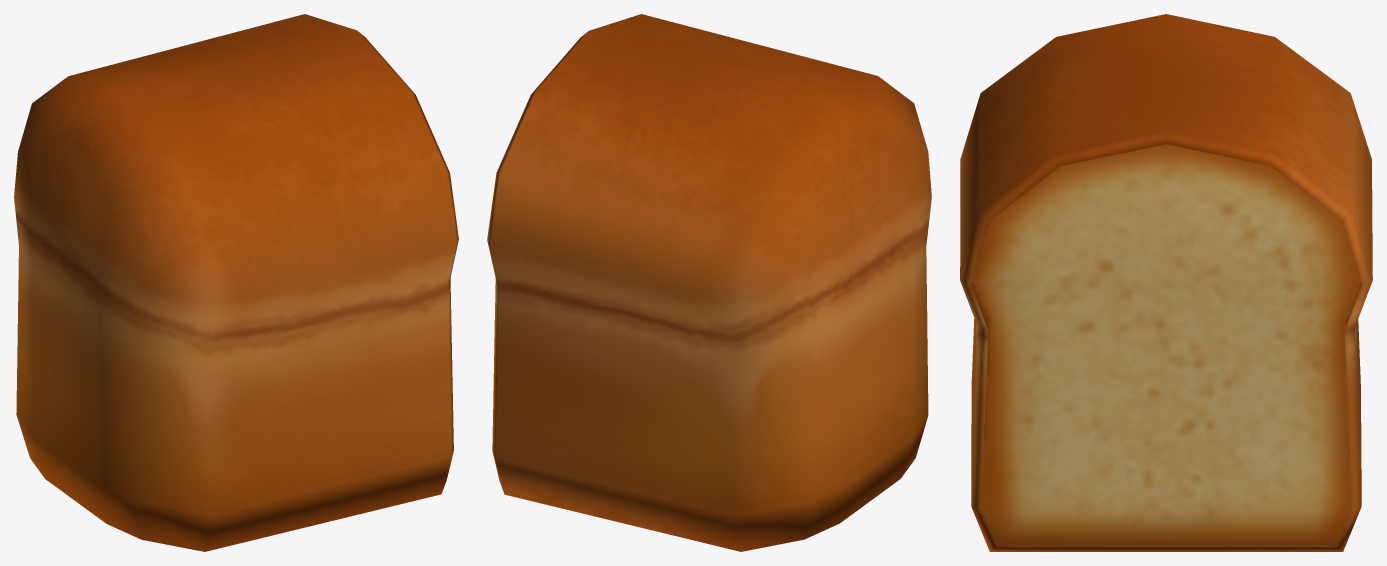
The model's file is Loaf_Sliced_Half.fbx.
3 renders of one model, left to right at view 1: azimuth 30°, elevation 25°; view 2: azimuth 150°, elevation 25°; view 3: azimuth 270°, elevation 25°, orthographic. The views are drawn at different scales.
Visible parts, largest first — view 1: Loaf_Sliced_Half; view 2: Loaf_Sliced_Half; view 3: Loaf_Sliced_Half.
Boxes of the visible parts, bbox=[...] form: Loaf_Sliced_Half: bbox=[14, 14, 458, 551]; Loaf_Sliced_Half: bbox=[487, 14, 931, 551]; Loaf_Sliced_Half: bbox=[960, 14, 1372, 551].
Size of the model in its own units: 31.02 by 39.59 by 35.16.
